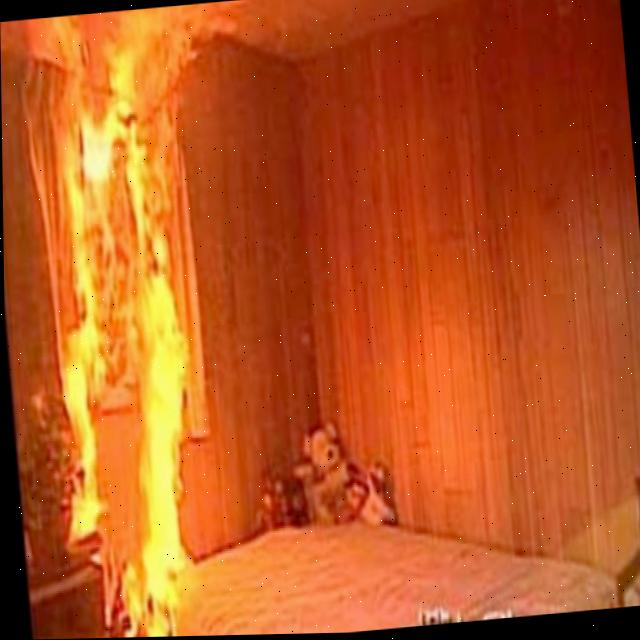fire: (21, 12, 189, 638)
